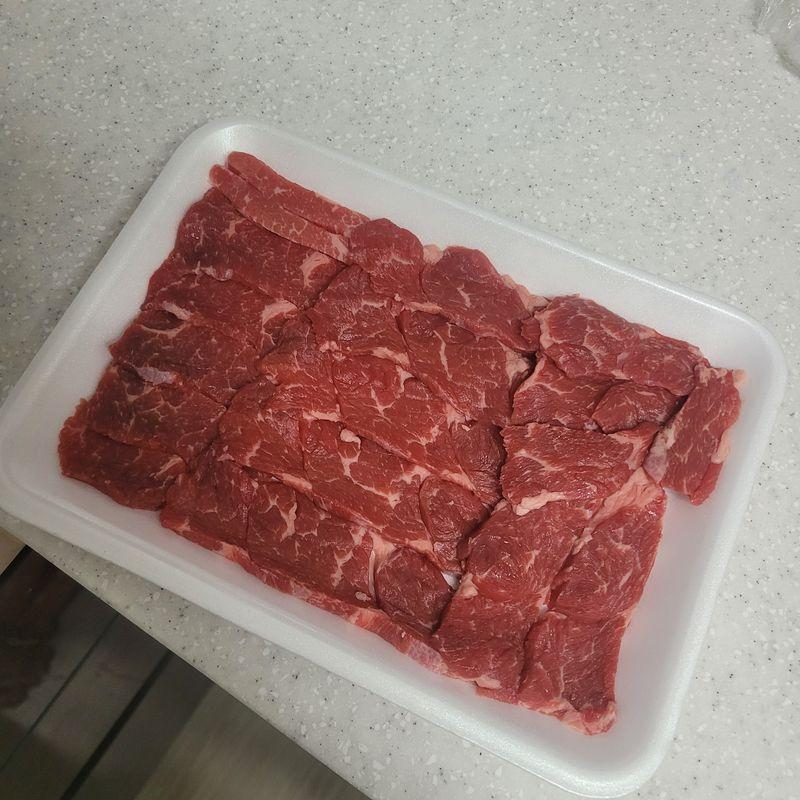beef: (354, 388, 622, 690), (632, 508, 800, 776)
